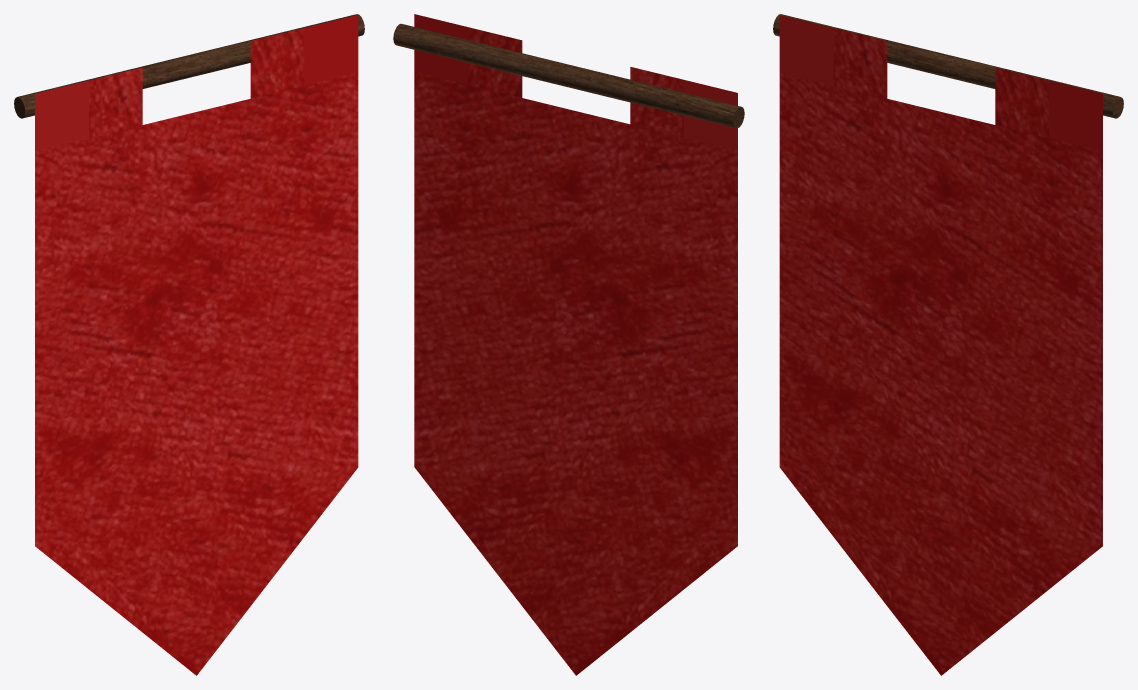
Rendered from banner.fbx.
The picture shows the model from 3 angles, left to right: view 1: azimuth 30°, elevation 25°; view 2: azimuth 150°, elevation 25°; view 3: azimuth 330°, elevation 25°; orthographic projection.
Parts seen in each view (by area): view 1: flag, pCylinder7; view 2: flag, pCylinder7; view 3: flag, pCylinder7.
Boxes of the visible parts, x1=… form: flag: x1=35, y1=15, x2=358, y2=675; pCylinder7: x1=14, y1=14, x2=364, y2=118; flag: x1=414, y1=14, x2=737, y2=675; pCylinder7: x1=393, y1=23, x2=744, y2=128; flag: x1=779, y1=15, x2=1102, y2=675; pCylinder7: x1=773, y1=14, x2=1123, y2=118.
Size of the model in its own units: 300 by 525 by 19.54.
